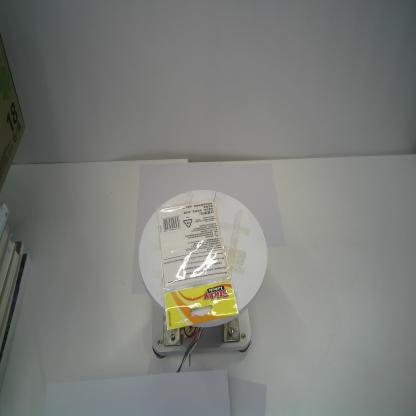Stationery: (154, 196, 240, 336)
